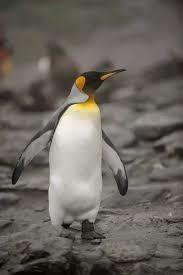king: (18, 60, 144, 246)
